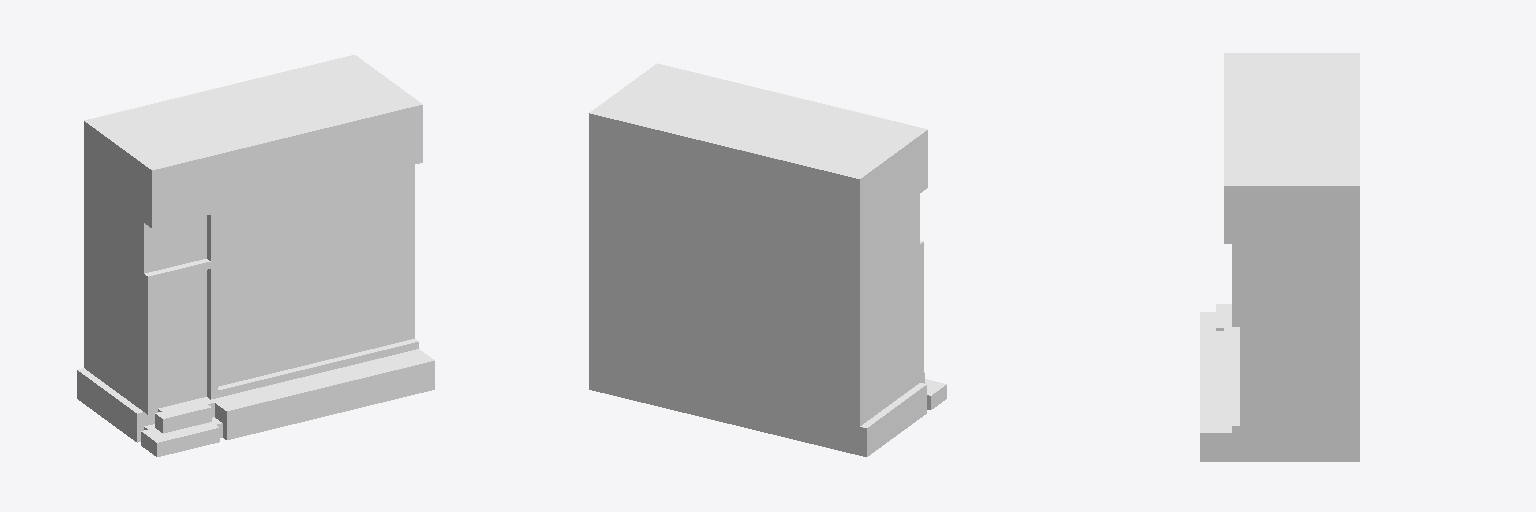
Rendered from FishAndchipsShop.obj.
The picture shows the model from 3 angles: view 1: azimuth 30°, elevation 25°; view 2: azimuth 150°, elevation 25°; view 3: azimuth 270°, elevation 25°; orthographic projection.
Parts seen in each view (by area): view 1: object 1; view 2: object 1; view 3: object 1.
Boxes of the visible parts, box(x1,y1,x2,y2) form: object 1: box(77, 55, 434, 456); object 1: box(589, 63, 946, 456); object 1: box(1200, 53, 1359, 461).
Size of the model in its own units: 4 by 3.8 by 2.